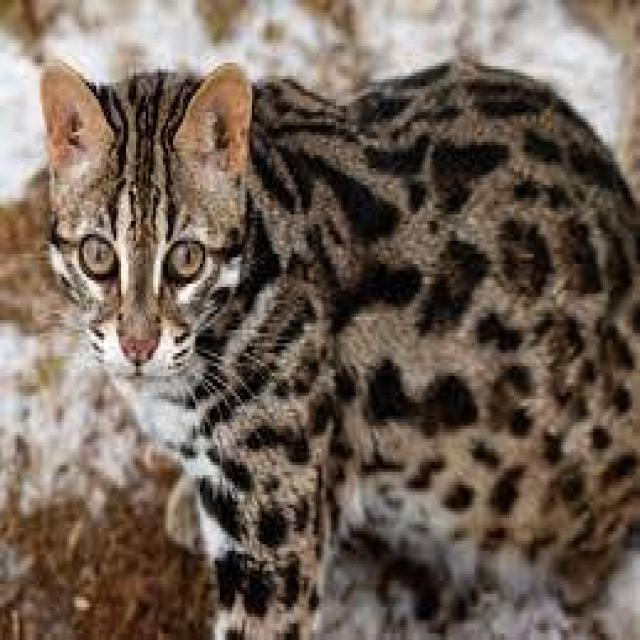leopard: (32, 45, 640, 587)
